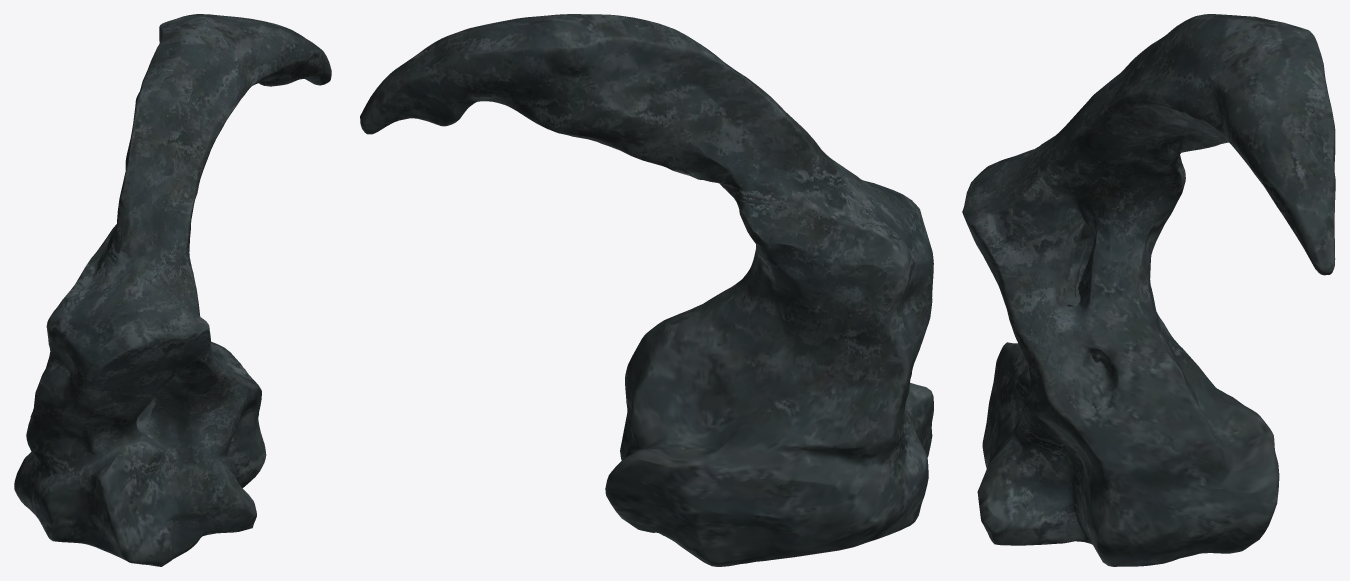
3 views of the same model, side by side, from view 1: azimuth 30°, elevation 25°; view 2: azimuth 150°, elevation 25°; view 3: azimuth 270°, elevation 25° (orthographic). The views are drawn at different scales.
Parts seen in each view (by area): view 1: SM_US_VolcRock_02_v6_LOD0; view 2: SM_US_VolcRock_02_v6_LOD0; view 3: SM_US_VolcRock_02_v6_LOD0.
Part boxes in pixels (box(x1,y1,x2,y2)): SM_US_VolcRock_02_v6_LOD0: box(14, 14, 331, 566); SM_US_VolcRock_02_v6_LOD0: box(360, 14, 933, 566); SM_US_VolcRock_02_v6_LOD0: box(962, 14, 1335, 566).
Bounding box in the file's own units: 29.47 × 32.63 × 19.29.
1 material, 1 textured.
